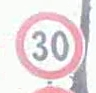limite 30: (12, 12, 86, 81)
